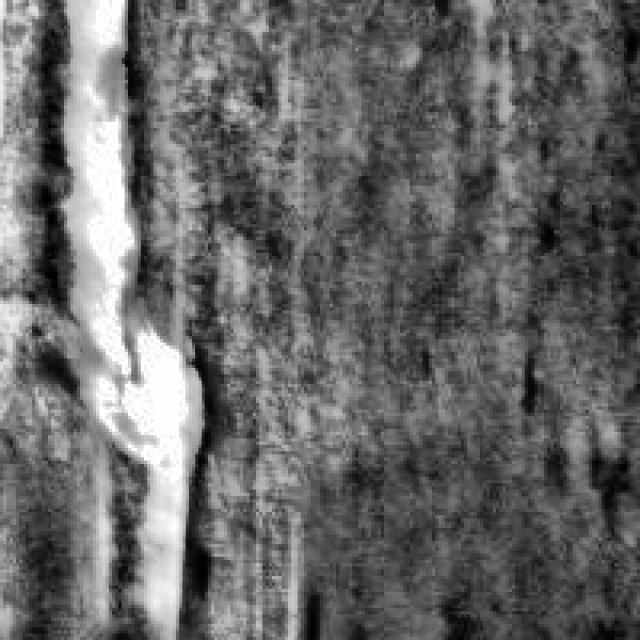Inclusion: (48, 0, 201, 630)
Patches: (544, 435, 624, 541)
